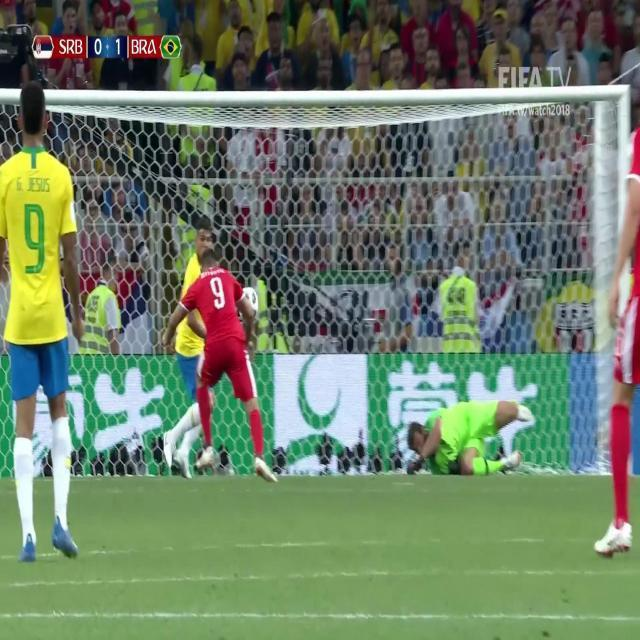ball: (239, 283, 264, 326)
goalkeeper: (405, 387, 533, 484)
player: (0, 75, 92, 576), (595, 66, 640, 563), (196, 259, 274, 480), (160, 219, 211, 487)
